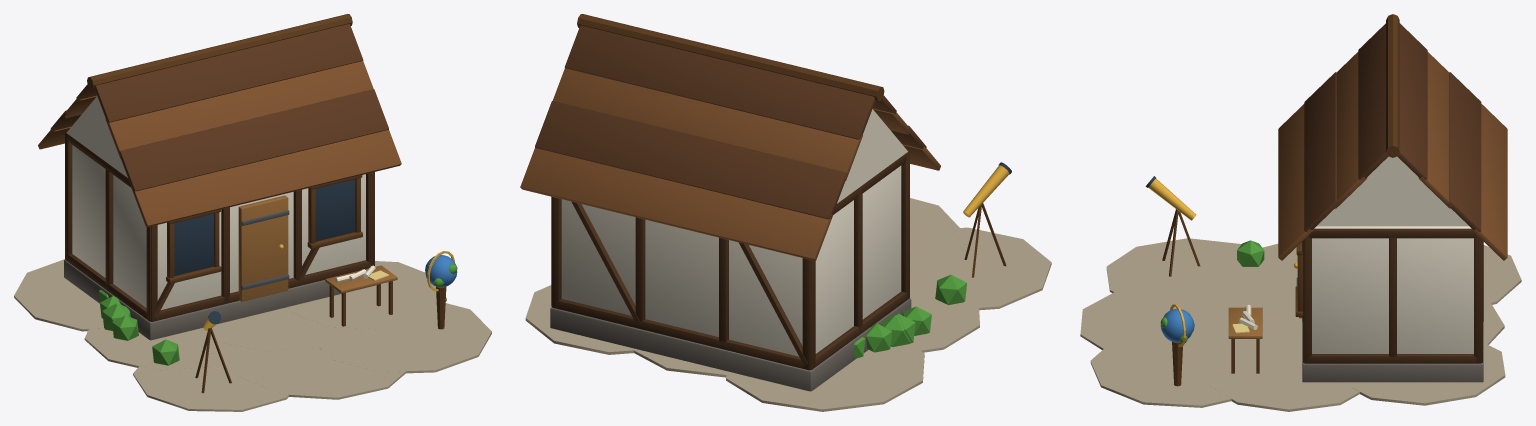
The model's file is akademia_poz06.glb.
3 renders of one model, left to right at view 1: azimuth 30°, elevation 25°; view 2: azimuth 150°, elevation 25°; view 3: azimuth 270°, elevation 25°, orthographic. The views are drawn at different scales.
Parts seen in each view (by area): view 1: akademia_poz06; view 2: akademia_poz06; view 3: akademia_poz06.
Part boxes in pixels (box(x1,y1,x2,y2)): akademia_poz06: box(14, 14, 491, 411); akademia_poz06: box(520, 14, 1051, 411); akademia_poz06: box(1080, 14, 1521, 411).
Bounding box in the file's own units: 7.26 × 4.93 × 7.78.
